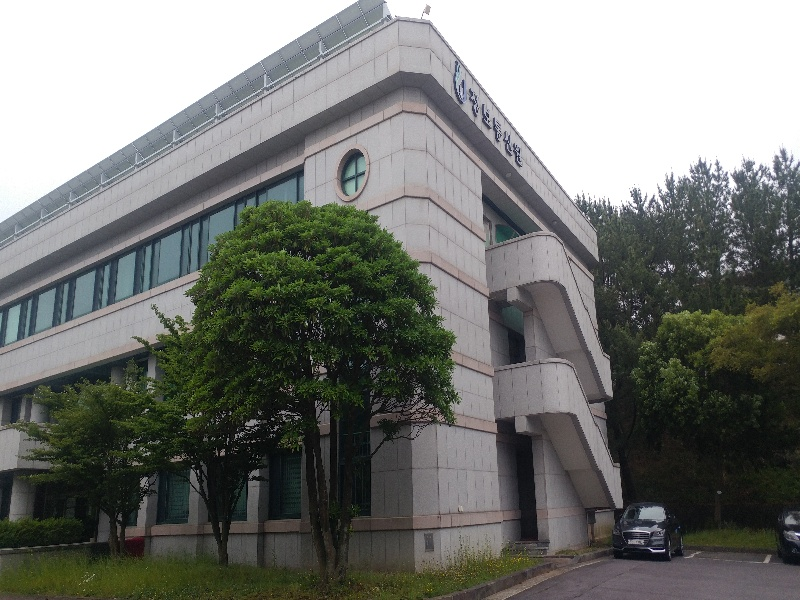Information Telecommunication Center: (1, 51, 619, 538), (422, 54, 611, 529), (412, 52, 551, 190)
